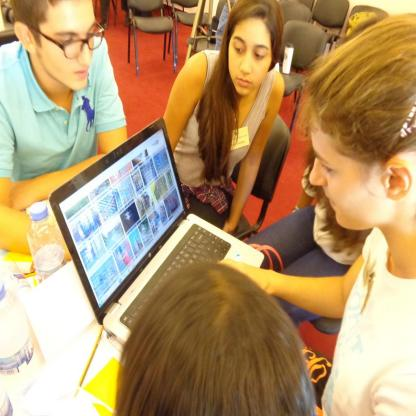board: (48, 118, 264, 346), (0, 277, 49, 416), (28, 200, 65, 284)
